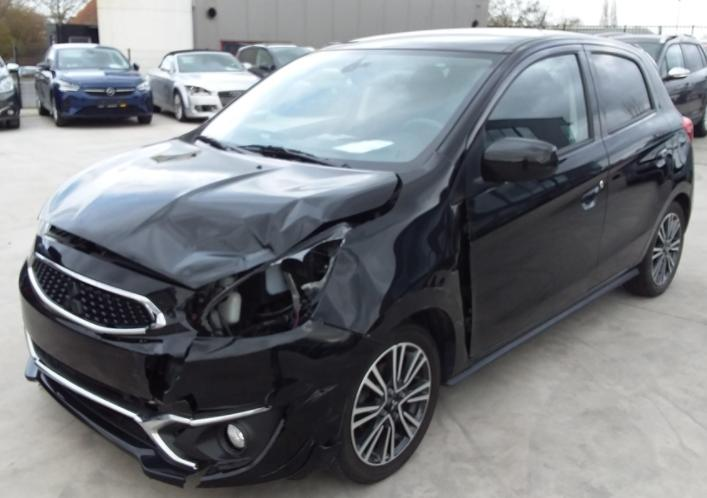Back-door: (583, 45, 673, 283)
Back-wheel: (623, 202, 685, 297)
Back-window: (592, 52, 652, 131)
Fender: (312, 155, 470, 377)
Front-bumper: (20, 261, 378, 488)
Front-door: (464, 46, 609, 358)
Front-wheel: (340, 325, 441, 485)
Front-window: (484, 54, 589, 152)
Grille: (28, 253, 165, 334)
Headlight: (183, 226, 346, 336)
Hood: (38, 138, 397, 290)
Mirror: (482, 138, 557, 182)
Quarter-panel: (638, 105, 694, 261)
Rocker-panel: (447, 261, 640, 385)
Roof: (317, 27, 635, 56)
Tail-light: (683, 116, 694, 142)
Windshield: (201, 49, 506, 172)
